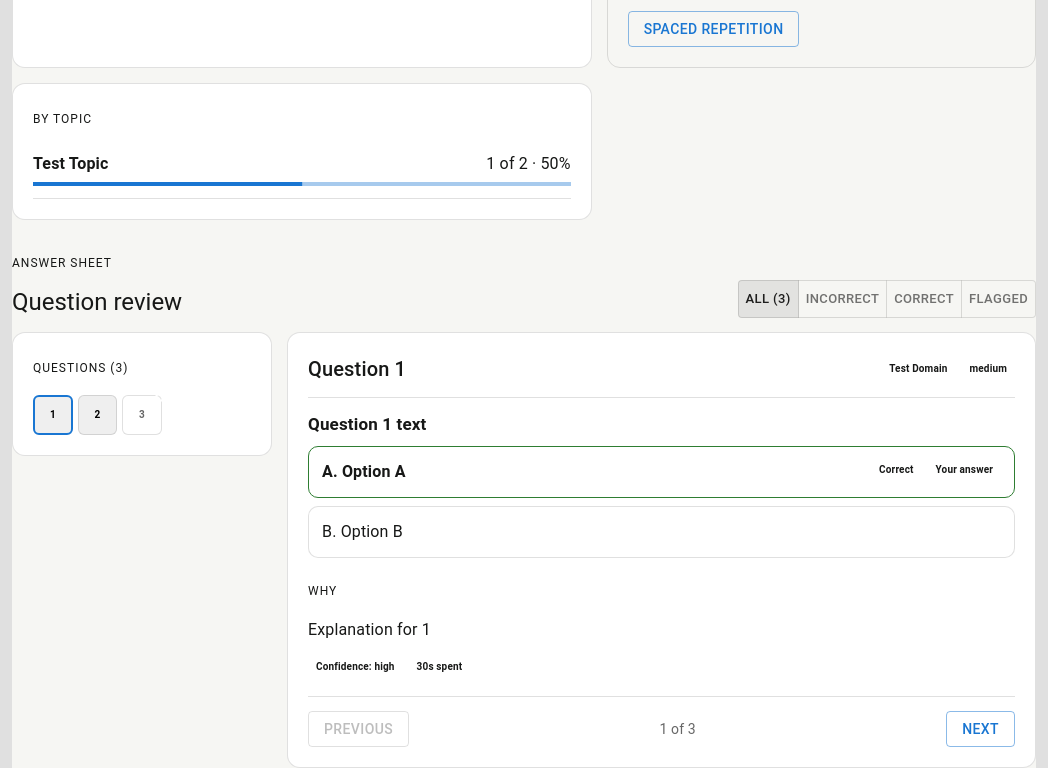
Test: ExamReviewPage › navigates between questions using the Next/Previous footer buttons
(page scrolled)
Expected: the text "Question 1 text" is shown, [308, 414, 426, 434]
Expected: the button "Previous" is disabled, [308, 711, 409, 747]
Click the button "Next".
click(981, 729)  # box [946, 711, 1015, 747]
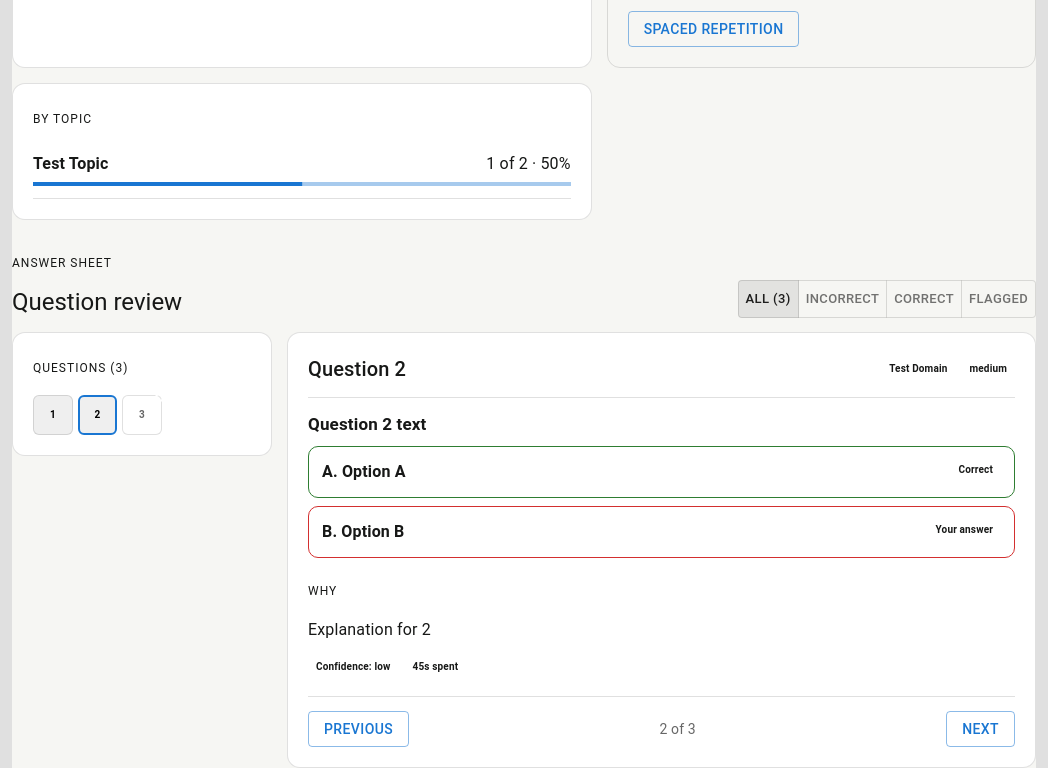
Expected: the text "Question 2 text" is shown, [308, 414, 426, 434]
Expected: the button "Previous" is enabled, [308, 711, 409, 747]
Click the button "Next".
click(981, 729)  # box [946, 711, 1015, 747]
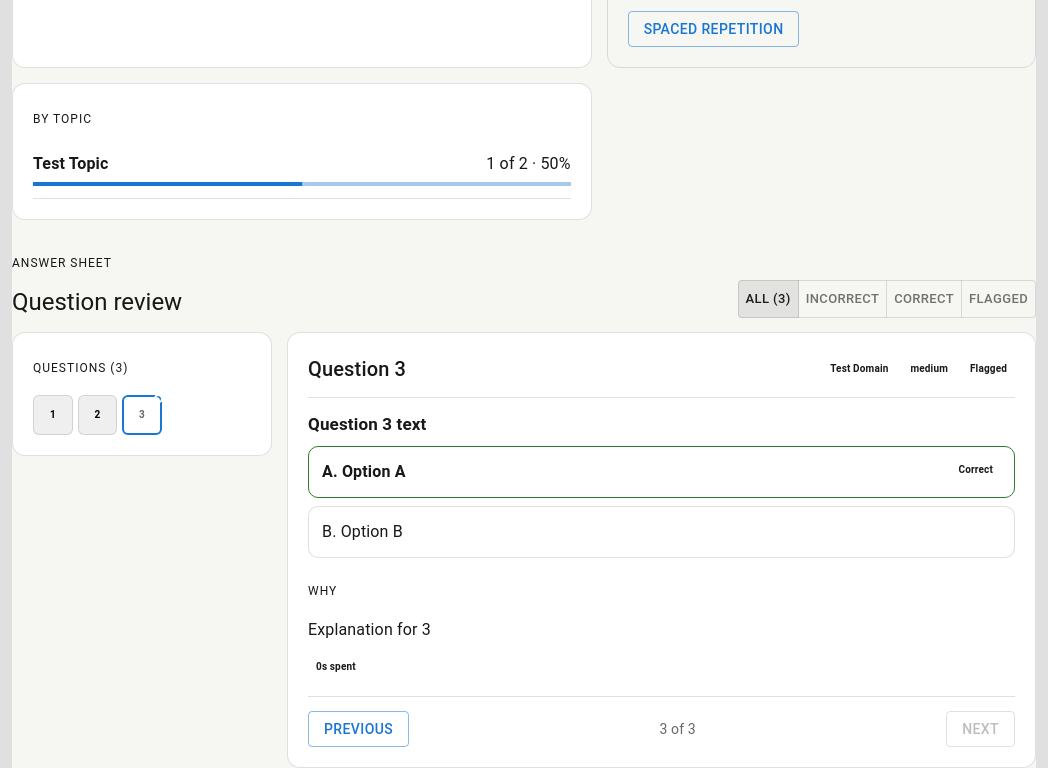
Expected: the text "Question 3 text" is shown, [308, 414, 426, 434]
Expected: the button "Next" is disabled, [946, 711, 1015, 747]
